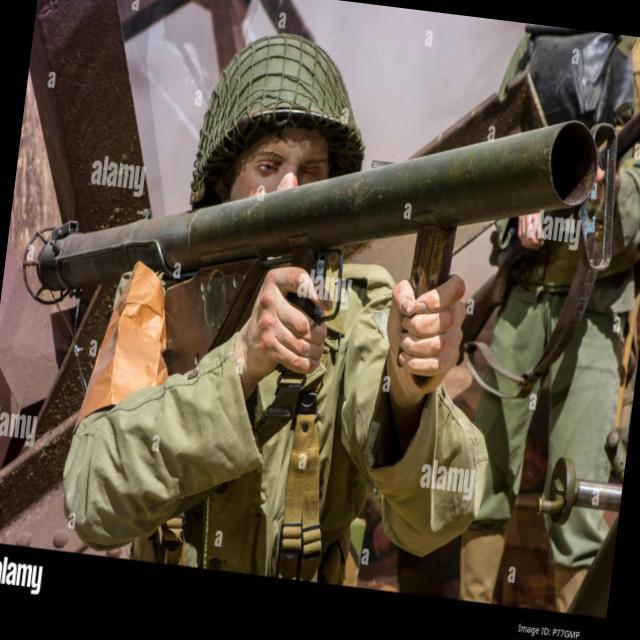rocket: (20, 52, 602, 369)
